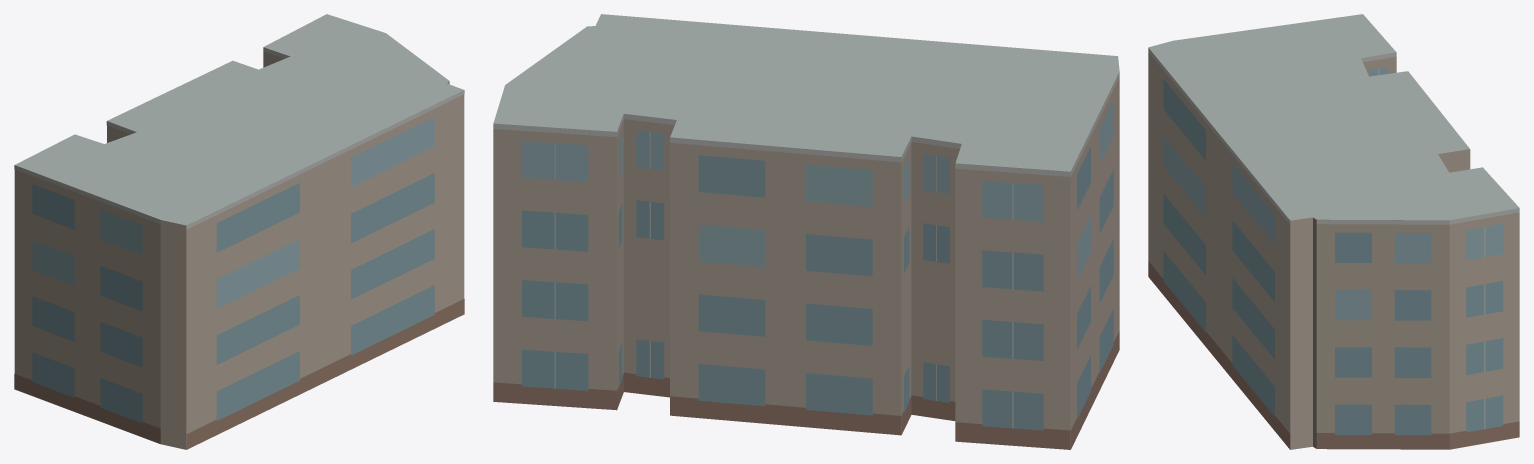
Rendered from survey-upis-32636135.glb.
The picture shows the model from 3 angles, left to right: view 1: azimuth 30°, elevation 25°; view 2: azimuth 150°, elevation 25°; view 3: azimuth 270°, elevation 25°; orthographic projection. The views are drawn at different scales.
Visible parts, largest first — view 1: survey-upis-32636135.tmp; view 2: survey-upis-32636135.tmp; view 3: survey-upis-32636135.tmp.
Boxes of the visible parts, x1,y1,x2,y2 form: survey-upis-32636135.tmp: (14,14,464,449); survey-upis-32636135.tmp: (493,14,1119,449); survey-upis-32636135.tmp: (1148,14,1519,449).
Bounding box in the file's own units: 24.75 × 12.8 × 18.8.
